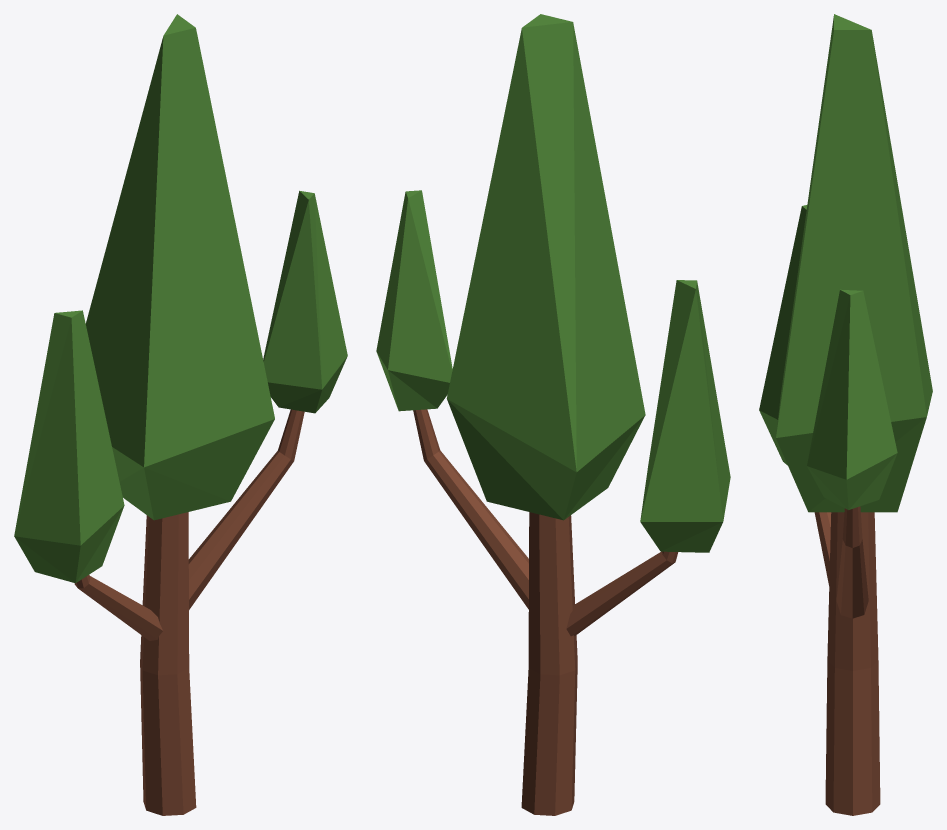
File: Tree_50_summer_vc.fbx
The picture shows the model from 3 angles, left to right: view 1: azimuth 30°, elevation 25°; view 2: azimuth 150°, elevation 25°; view 3: azimuth 270°, elevation 25°; orthographic projection.
Visible parts, largest first — view 1: Tree_50_summer_vc; view 2: Tree_50_summer_vc; view 3: Tree_50_summer_vc.
Part boxes in pixels (x1,y1,x2,y2): Tree_50_summer_vc: [14, 14, 347, 815]; Tree_50_summer_vc: [376, 14, 730, 815]; Tree_50_summer_vc: [759, 14, 932, 815].
Size of the model in its own units: 118 by 259 by 52.22.
